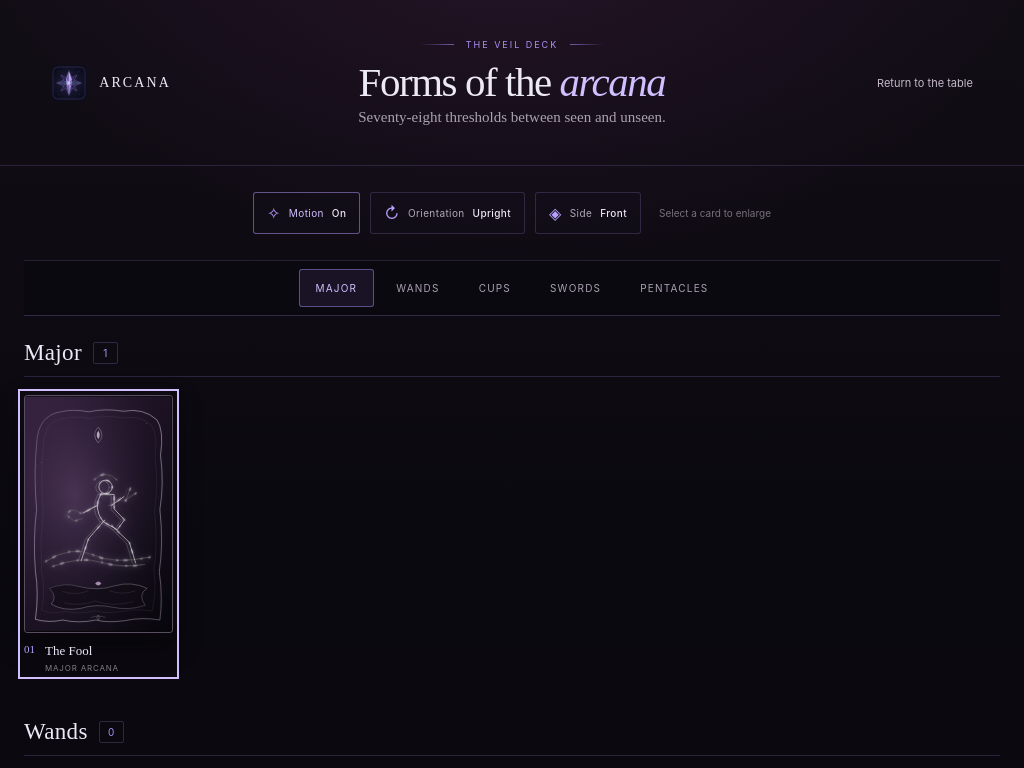
it: The Veil gallery › closes the enlarged-card dialog with Escape and restores focus
Click the button with aria-label "Enlarge The Fool" at (98, 534), box [24,395,172,673]
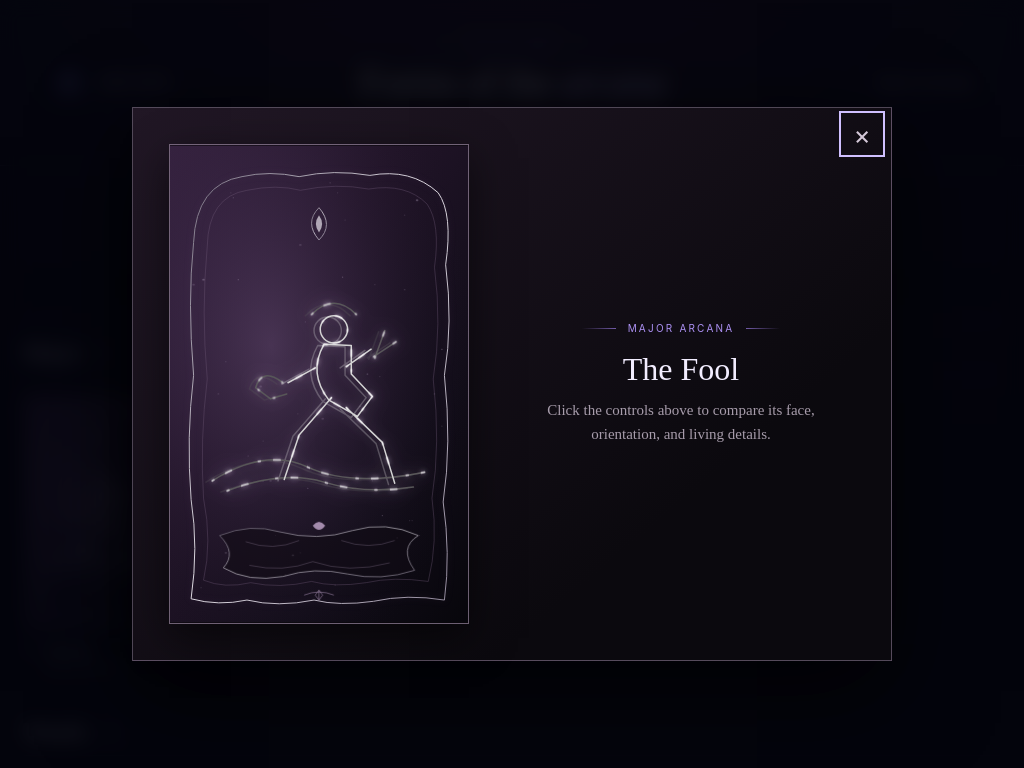
Press Escape
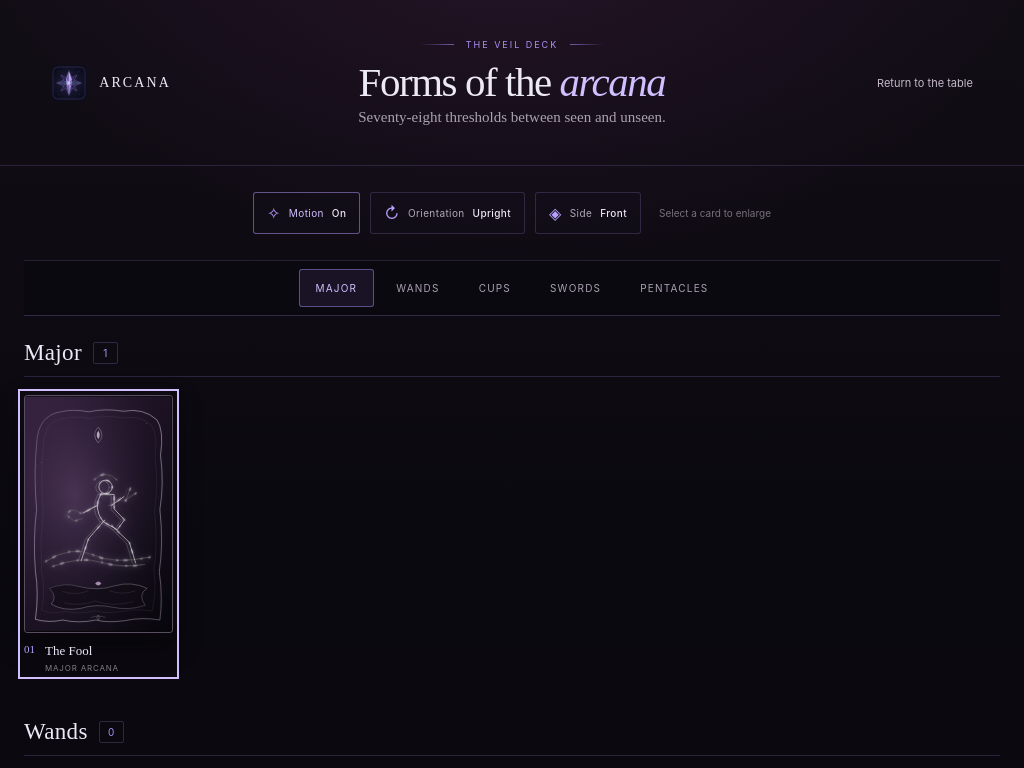
Expected: the dialog is gone
